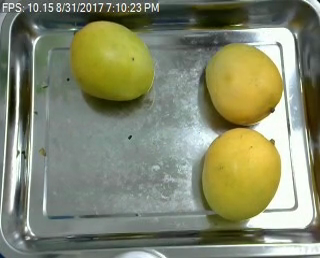Mango: (66, 16, 160, 106), (197, 127, 285, 223), (202, 39, 284, 126)
